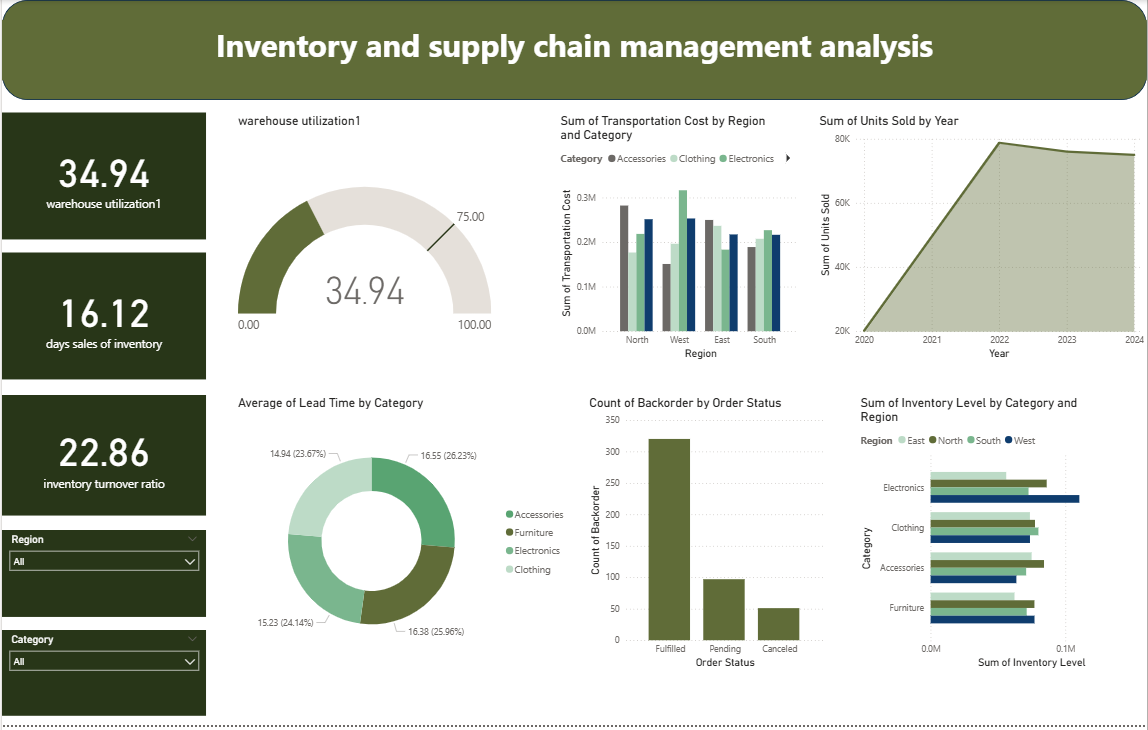

The dashboard page shown, as its layout file describes it:
{"tool":"powerbi","page":{"name":"Page 1","canvas":[1580,1000],"ordinal":0},"visuals":[{"type":"shape","box":[0,0,1580.4,138],"z":0},{"type":"textbox","box":[0,27.6,1580.4,82.8],"z":1000},{"type":"card","fields":{"Values":["Inventory and supplychain analysis dataset.warehouse utilization1"]},"box":[0,154.8,281.8,175.2],"z":1001},{"type":"card","fields":{"Values":["Inventory and supplychain analysis dataset.days sales of inventory"]},"box":[0,349,281.8,175.2],"z":1002},{"type":"card","fields":{"Values":["Inventory and supplychain analysis dataset.inventory turnover ratio"]},"box":[0,544.7,281.8,166.5],"z":1003},{"type":"slicer","fields":{"Values":["Inventory and supplychain analysis dataset.Region"]},"box":[0,731.6,281.8,119.7],"z":1004},{"type":"slicer","fields":{"Values":["Inventory and supplychain analysis dataset.Category"]},"box":[0,868.9,281.8,118.3],"z":1005},{"type":"gauge","fields":{"Y":["Inventory and supplychain analysis dataset.warehouse utilization1"]},"box":[321.1,156.1,359.6,387.7],"z":1006},{"type":"clusteredColumnChart","fields":{"Series":["Inventory and supplychain analysis dataset.Category"],"Y":["Sum(Inventory and supplychain analysis dataset.Transportation Cost)"],"Category":["Inventory and supplychain analysis dataset.Region"]},"box":[766.7,156.1,338.6,343.9],"z":1007},{"type":"lineChart","fields":{"Y":["Sum(Inventory and supplychain analysis dataset.Units Sold)"],"Category":["Inventory and supplychain analysis dataset.Date.Variation.Date Hierarchy.Year"]},"box":[1122.8,156.1,457.9,343.9],"z":1008},{"type":"donutChart","fields":{"Y":["Avg(Inventory and supplychain analysis dataset.Lead Time)"],"Category":["Inventory and supplychain analysis dataset.Category"]},"box":[321.1,545.6,468.4,382.5],"z":1009},{"type":"columnChart","fields":{"Category":["Inventory and supplychain analysis dataset.Order Status"],"Y":["CountNonNull(Inventory and supplychain analysis dataset.Backorder)"]},"box":[805.3,545.6,333.3,382.5],"z":1010},{"type":"clusteredBarChart","fields":{"Category":["Inventory and supplychain analysis dataset.Category"],"Series":["Inventory and supplychain analysis dataset.Region"],"Y":["Sum(Inventory and supplychain analysis dataset.Inventory Level)"]},"box":[1180,546,400,382],"z":1011}]}

Visuals, with their boxes in screenshot pixels (x1, y1, x2, y2), scaled from the page's 1580x1000 canvas onto the 1148x730 screenshot:
shape: locate(0, 0, 1147, 101)
textbox: locate(0, 20, 1147, 81)
card - Inventory and supplychain analysis dataset.warehouse utilization1: locate(0, 113, 205, 241)
card - Inventory and supplychain analysis dataset.days sales of inventory: locate(0, 255, 205, 383)
card - Inventory and supplychain analysis dataset.inventory turnover ratio: locate(0, 398, 205, 519)
slicer - Inventory and supplychain analysis dataset.Region: locate(0, 534, 205, 621)
slicer - Inventory and supplychain analysis dataset.Category: locate(0, 634, 205, 721)
gauge - Inventory and supplychain analysis dataset.warehouse utilization1: locate(233, 114, 495, 397)
clusteredColumnChart - Inventory and supplychain analysis dataset.Category x Sum(Inventory and supplychain analysis dataset.Transportation Cost): locate(557, 114, 803, 365)
lineChart - Sum(Inventory and supplychain analysis dataset.Units Sold) x Inventory and supplychain analysis dataset.Date.Variation.Date Hierarchy.Year: locate(816, 114, 1147, 365)
donutChart - Avg(Inventory and supplychain analysis dataset.Lead Time) x Inventory and supplychain analysis dataset.Category: locate(233, 398, 574, 678)
columnChart - Inventory and supplychain analysis dataset.Order Status x CountNonNull(Inventory and supplychain analysis dataset.Backorder): locate(585, 398, 827, 678)
clusteredBarChart - Inventory and supplychain analysis dataset.Category x Inventory and supplychain analysis dataset.Region: locate(857, 399, 1147, 677)
